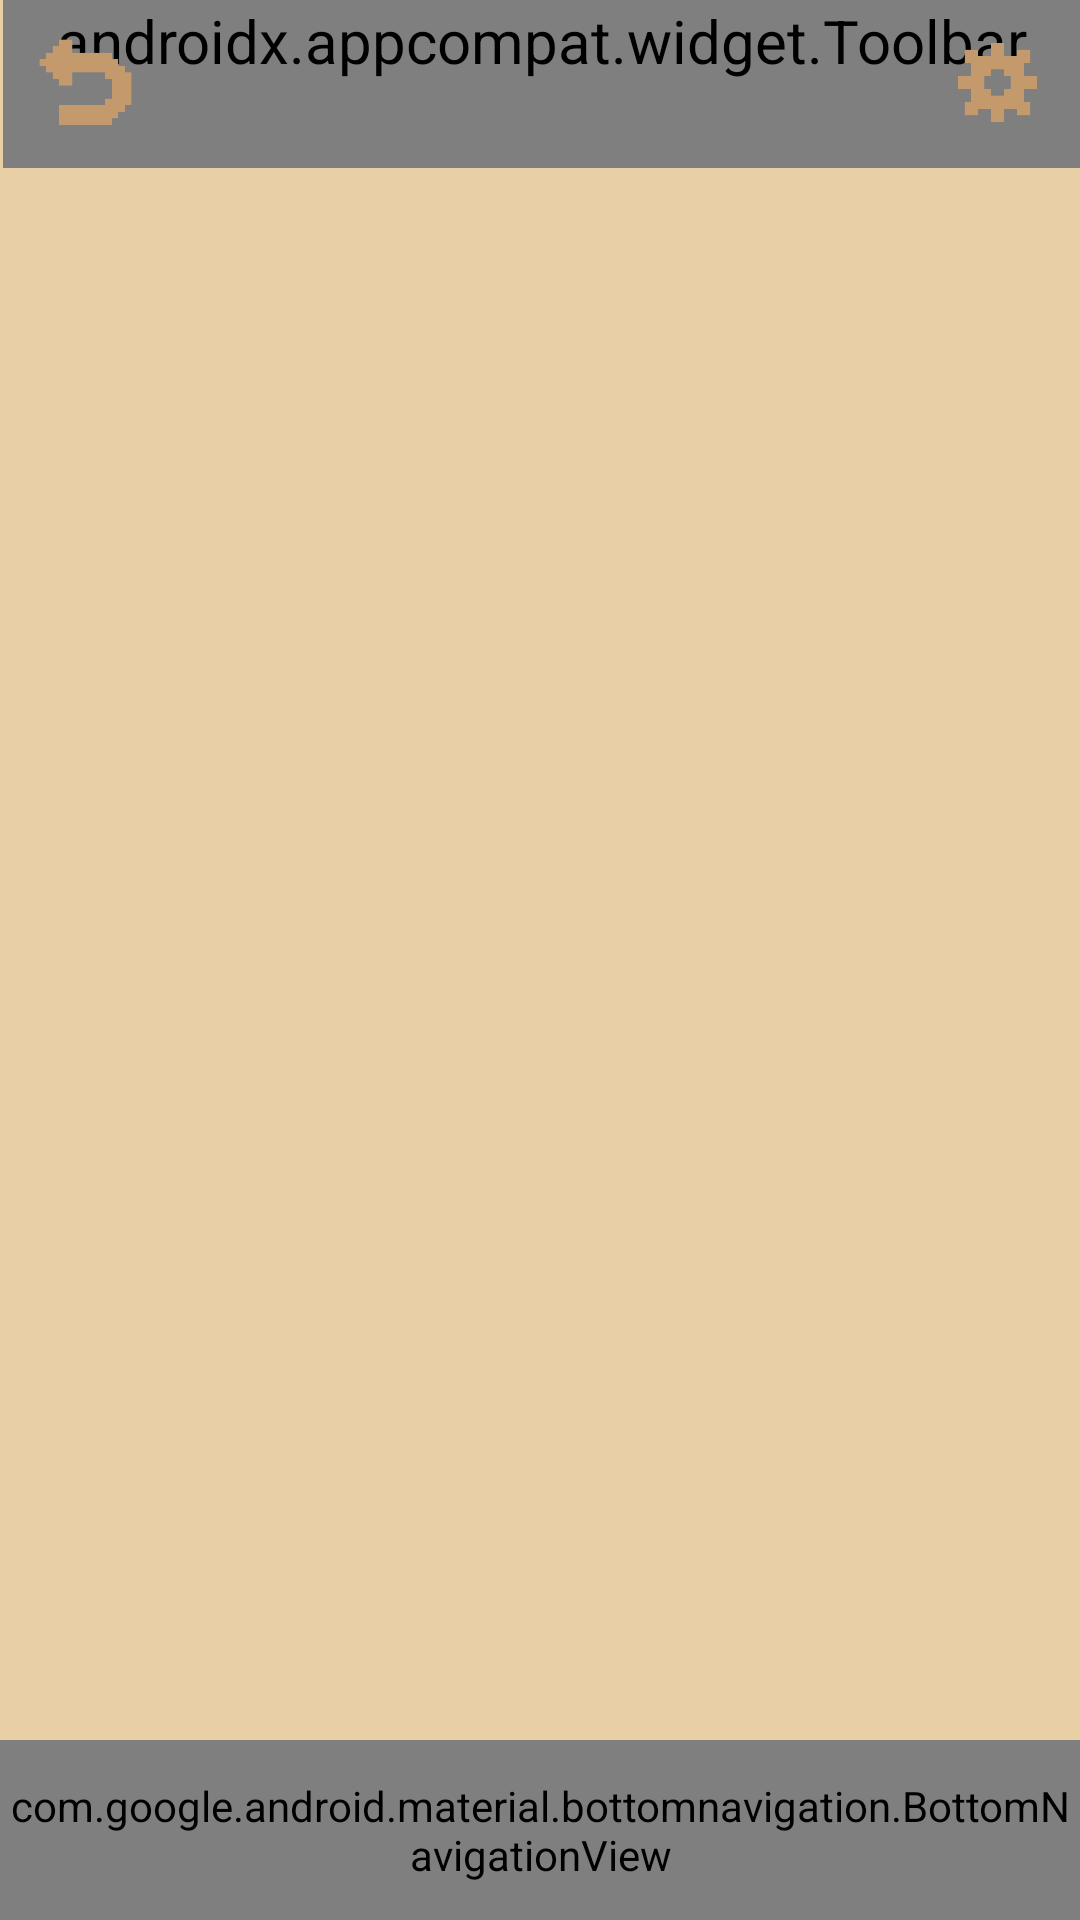

Where icons sit on this 1080px×1920px app screen, as (x1, y1, x2, y2):
back: (39, 31, 132, 125)
setting: (945, 30, 1037, 122)
